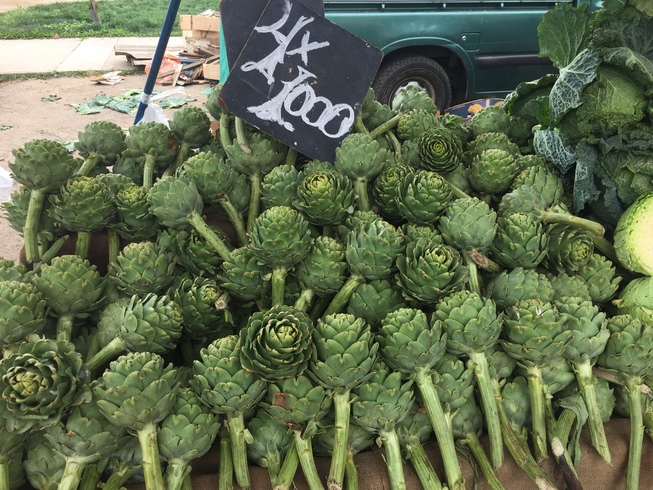precio: (215, 1, 389, 169)
